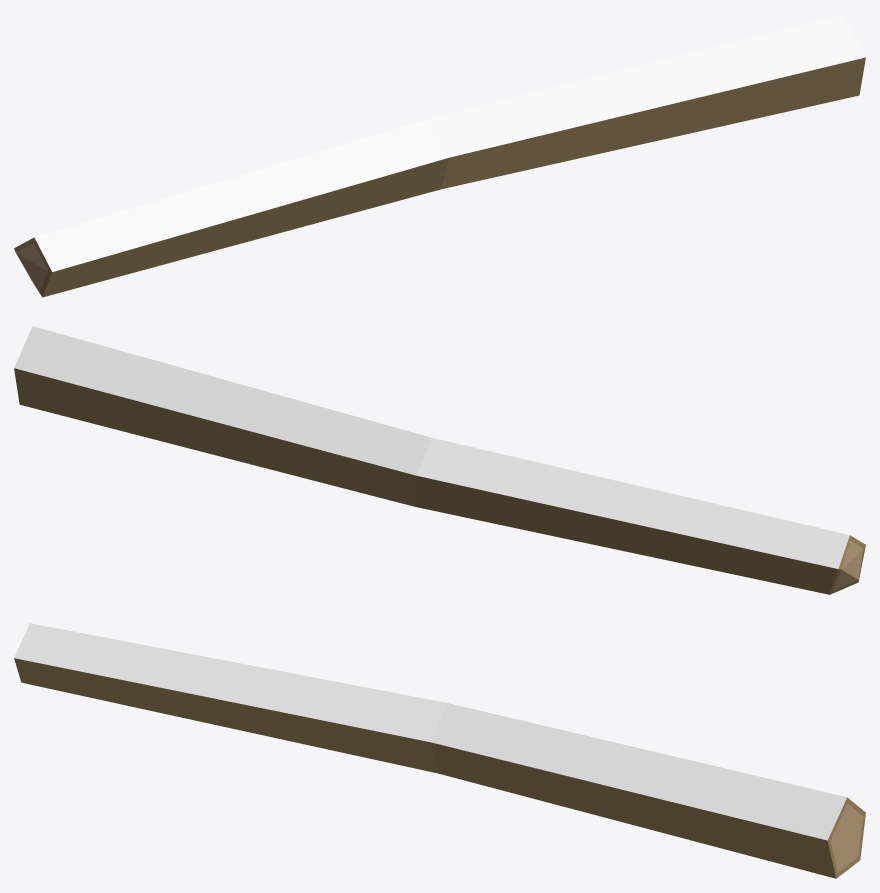
The model's file is Acacia_Log_Snow_03.fbx.
The picture shows the model from 3 angles, top to bottom: view 1: azimuth 30°, elevation 25°; view 2: azimuth 150°, elevation 25°; view 3: azimuth 330°, elevation 25°; orthographic projection.
Parts seen in each view (by area): view 1: Acacia_Log_Snow_03; view 2: Acacia_Log_Snow_03; view 3: Acacia_Log_Snow_03.
Boxes of the visible parts, x1,y1,x2,y2 form: Acacia_Log_Snow_03: [14, 14, 865, 297]; Acacia_Log_Snow_03: [14, 326, 865, 594]; Acacia_Log_Snow_03: [14, 623, 865, 878].
Size of the model in its own units: 342 by 28.36 by 34.56.
